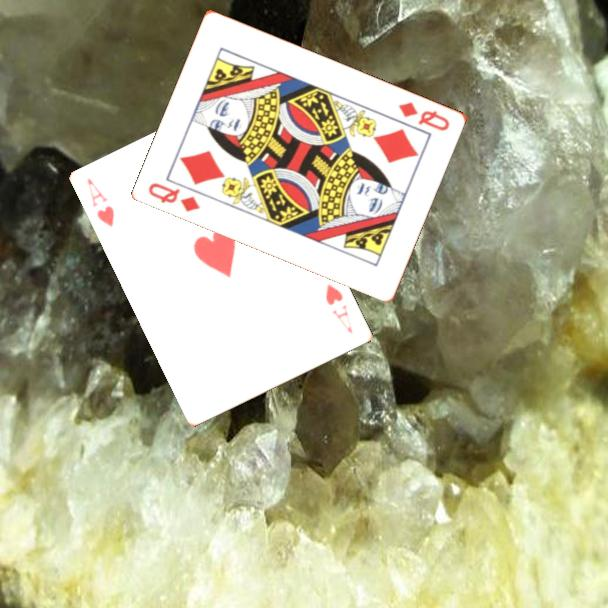d12: (145, 179, 204, 215), (395, 98, 453, 134)
h01: (322, 281, 356, 337), (84, 175, 118, 230)
